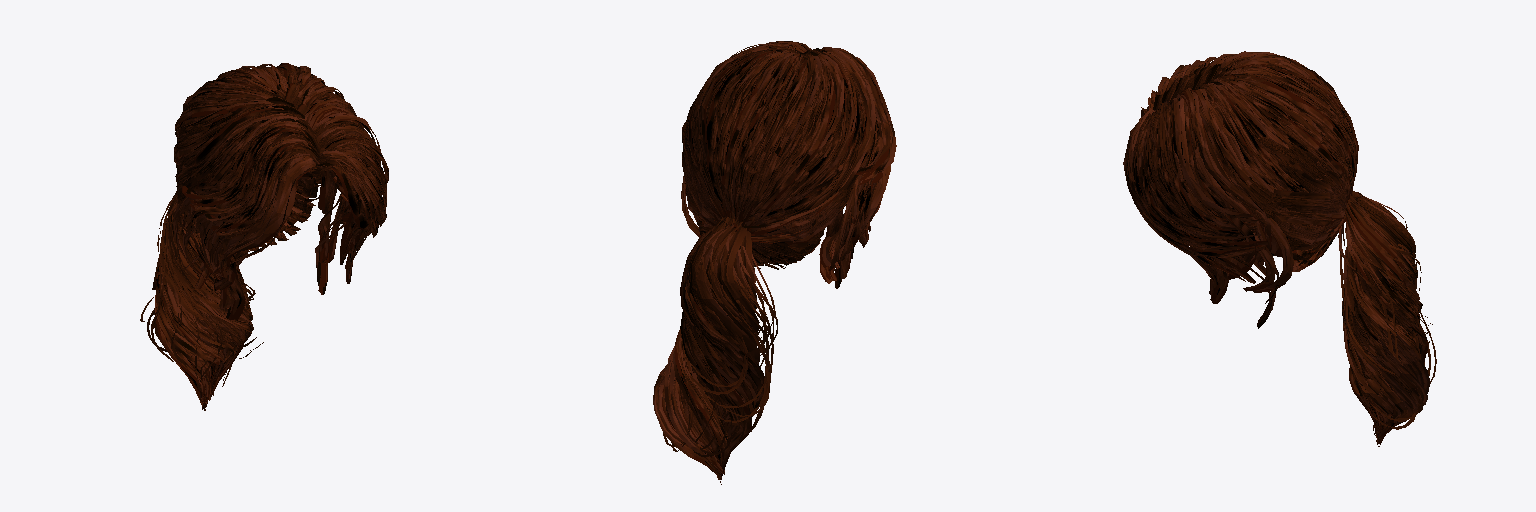
3 views of the same model, side by side, from view 1: azimuth 30°, elevation 25°; view 2: azimuth 150°, elevation 25°; view 3: azimuth 270°, elevation 25° (orthographic).
Bounding box in the file's own units: 0.257 × 0.5224 × 0.3827.
Materials: 1 (1 with a texture image).